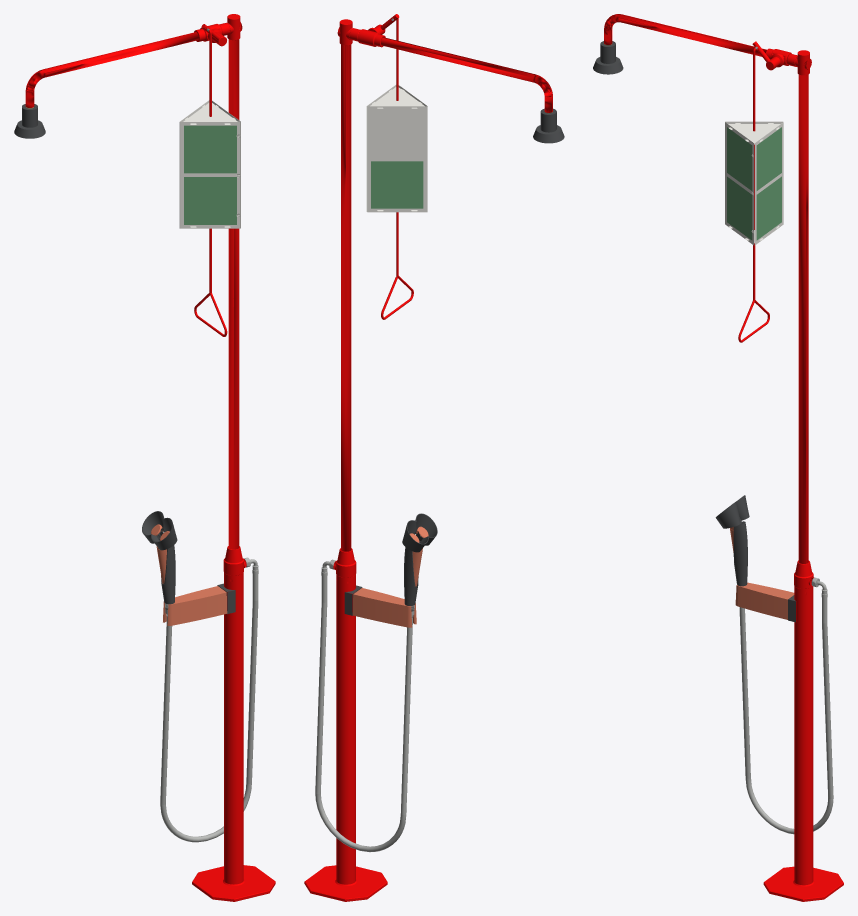
3 views of the same model, side by side, from view 1: azimuth 30°, elevation 25°; view 2: azimuth 150°, elevation 25°; view 3: azimuth 330°, elevation 25° (orthographic). The views are drawn at different scales.
Visible parts, largest first — view 1: Body2, Body13, Body66, Body44, Body43, Body23, Body9, Body39, Body85, Body30, Body20, Body70 (+1 smaller); view 2: Body2, Body13, Body39, Body66, Body58, Body23, Body9, Body85, Body30, Body20, Body31, Body70; view 3: Body2, Body13, Body66, Body23, Body9, Body51, Body50, Body43, Body44, Body39, Body70, Body30 (+4 smaller).
Boxes of the visible parts, x1,y1,x2,y2 form: Body2: (192, 572, 274, 898); Body13: (228, 39, 239, 549); Body66: (160, 574, 258, 842); Body44: (184, 125, 236, 173); Body43: (184, 177, 236, 224); Body23: (25, 32, 198, 107); Body9: (165, 586, 227, 625); Body39: (179, 100, 240, 228); Body85: (142, 511, 177, 550); Body30: (194, 28, 227, 336); Body20: (14, 104, 45, 138); Body70: (161, 545, 175, 604); Body2: (305, 574, 386, 898); Body13: (341, 44, 351, 551); Body39: (367, 85, 427, 212); Body66: (315, 576, 412, 852); Body58: (371, 161, 423, 208); Body23: (381, 37, 552, 112); Body9: (352, 588, 416, 627); Body85: (402, 513, 437, 552); Body30: (381, 18, 413, 319); Body20: (533, 108, 564, 143); Body31: (370, 87, 424, 108); Body70: (404, 547, 418, 605); Body2: (764, 586, 843, 898); Body13: (798, 74, 808, 563); Body66: (739, 597, 833, 834); Body23: (604, 14, 766, 56); Body9: (735, 582, 794, 619); Body51: (756, 176, 781, 240); Body50: (756, 127, 781, 190); Body43: (727, 176, 752, 240); Body44: (727, 127, 752, 190); Body39: (725, 121, 782, 245); Body70: (733, 521, 747, 586); Body30: (738, 46, 769, 342).
Size of the model in its own units: 0.7089 by 2.38 by 0.2387.
